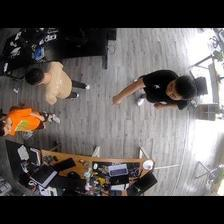normal: (113, 69, 197, 112), (27, 62, 90, 102), (1, 107, 60, 136)
